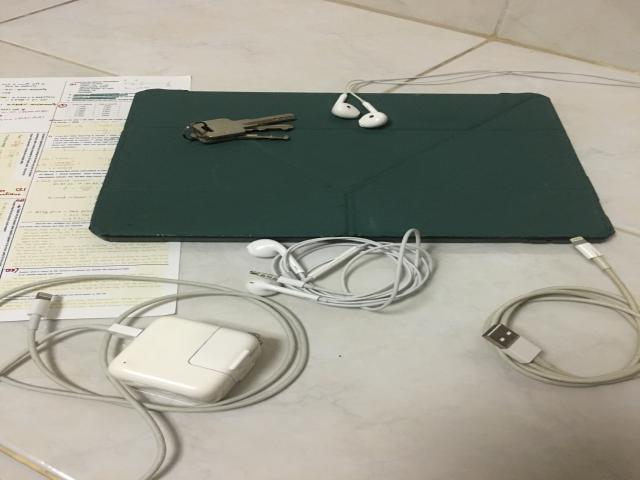Keys: (183, 113, 297, 143)
paper: (0, 76, 190, 322)
wire: (0, 275, 308, 480), (482, 237, 640, 387), (332, 69, 640, 128), (247, 229, 433, 310)
